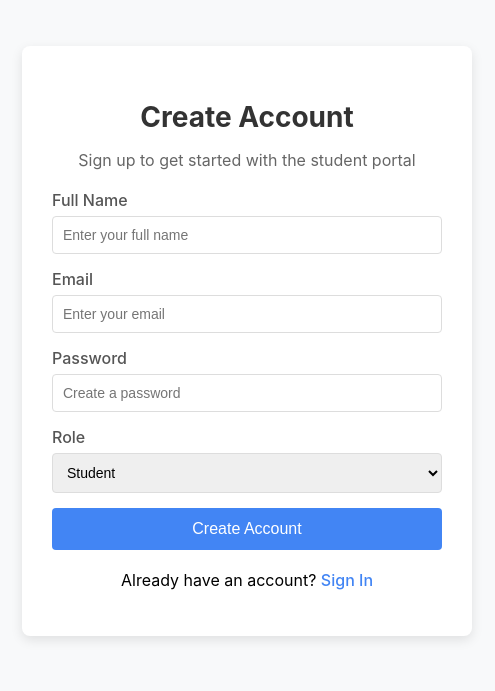
it: Register – successful submission › shows success message after successful registration
Type "Jane Doe" into the field labelled "Full Name" at (247, 235), box [52, 216, 442, 254]
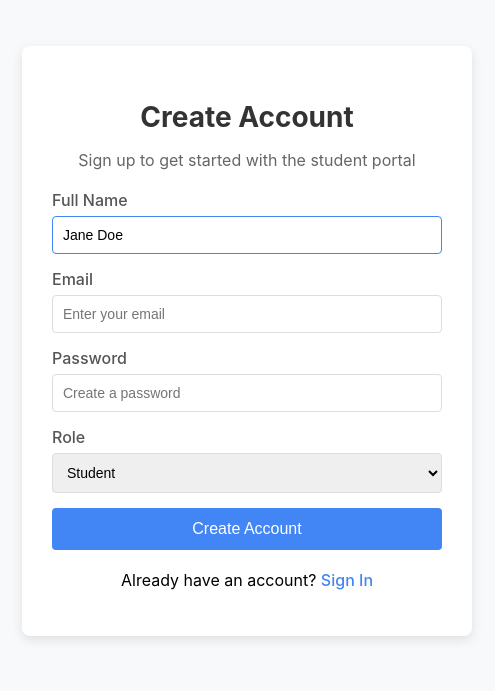
Type "jane@test.com" into the field labelled "Email" at (247, 314), box [52, 295, 442, 333]
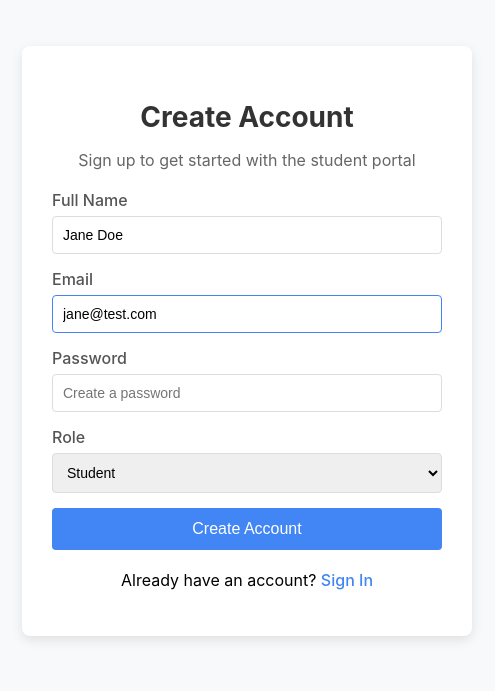
Type "secret123" into the password field labelled "Password" at (247, 393), box [52, 374, 442, 412]
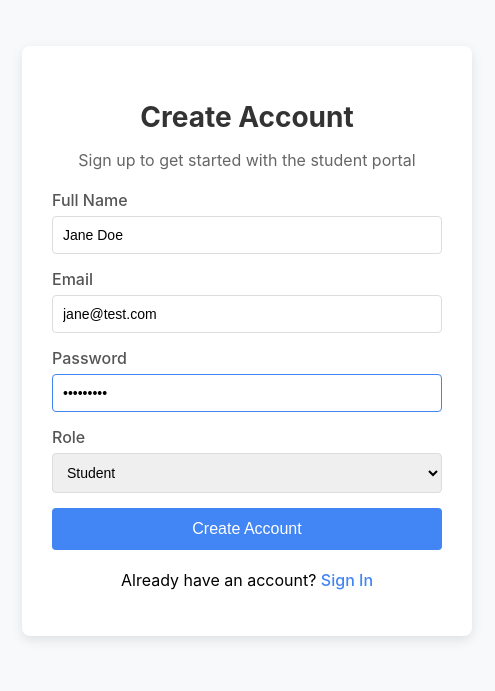
Submit the form "Full Name Email Password Role Create Account", box [52, 190, 442, 550]
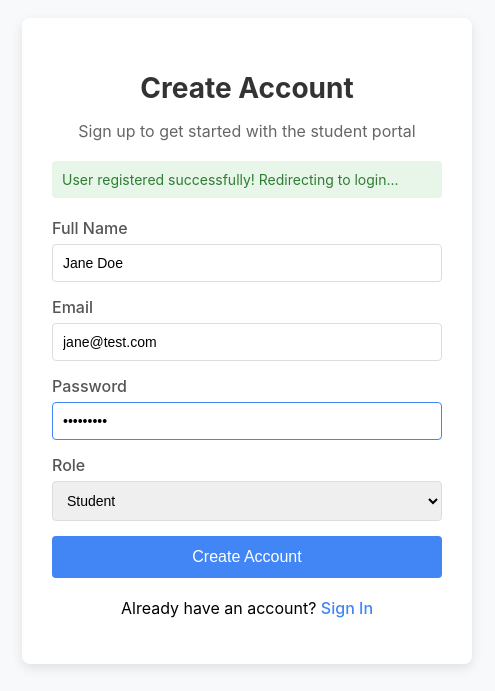
expect the text "User registered successfully! Redirecting to login..." is shown: met, box [52, 161, 442, 198]
